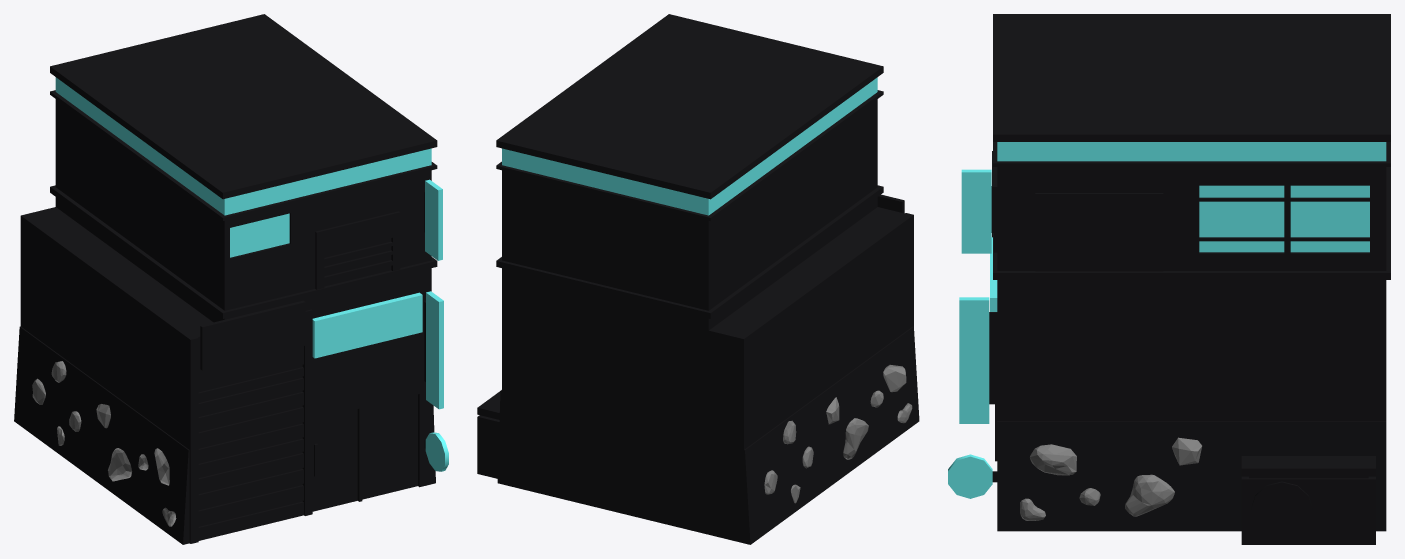
3 renders of one model, left to right at view 1: azimuth 30°, elevation 25°; view 2: azimuth 150°, elevation 25°; view 3: azimuth 270°, elevation 25°, orthographic. The views are drawn at different scales.
Visible parts, largest first — view 1: Box031; view 2: Box031; view 3: Box031.
Part boxes in pixels (box(x1,y1,x2,y2)): Box031: box(14, 14, 448, 544); Box031: box(477, 14, 919, 544); Box031: box(948, 14, 1390, 544).
Bounding box in the file's own units: 58.37 × 67.45 × 68.28.
